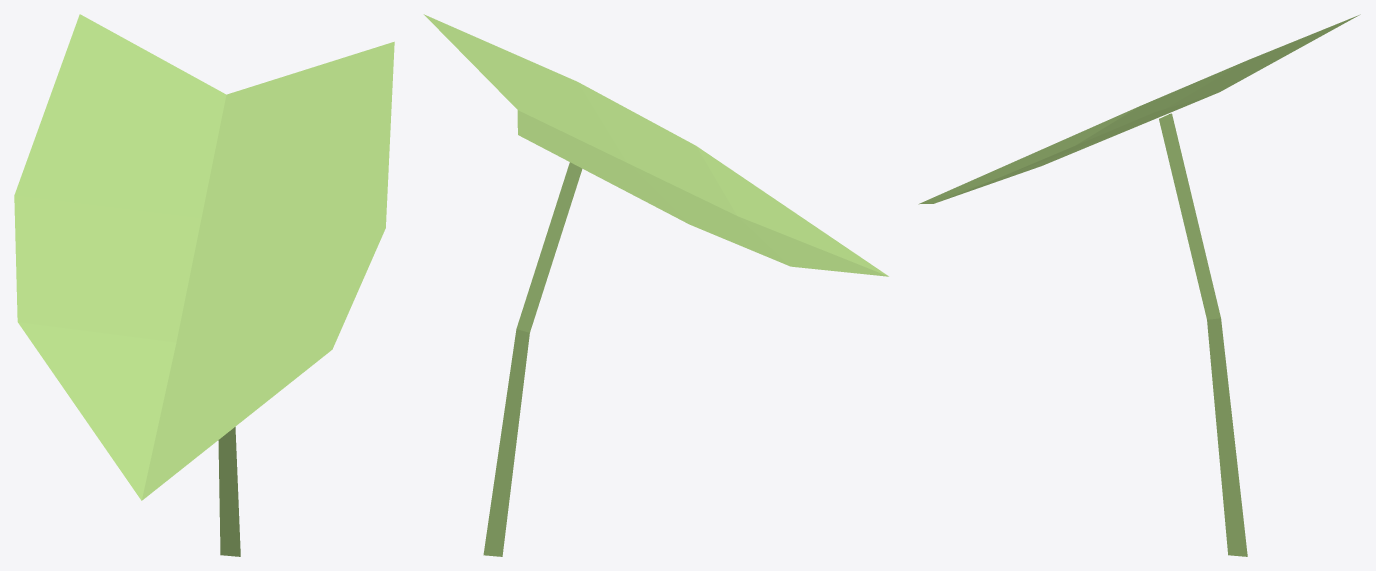
Rendered from Plant_c_OneS_01.fbx.
The picture shows the model from 3 angles, left to right: view 1: azimuth 30°, elevation 25°; view 2: azimuth 150°, elevation 25°; view 3: azimuth 270°, elevation 25°; orthographic projection. The views are drawn at different scales.
Parts seen in each view (by area): view 1: Plant_c_OneS_01; view 2: Plant_c_OneS_01; view 3: Plant_c_OneS_01.
Boxes of the visible parts, box(x1,y1,x2,y2) form: Plant_c_OneS_01: box(14, 14, 394, 556); Plant_c_OneS_01: box(423, 14, 888, 556); Plant_c_OneS_01: box(918, 14, 1360, 556).
Bounding box in the file's own units: 0.4971 × 0.636 × 0.5134.
